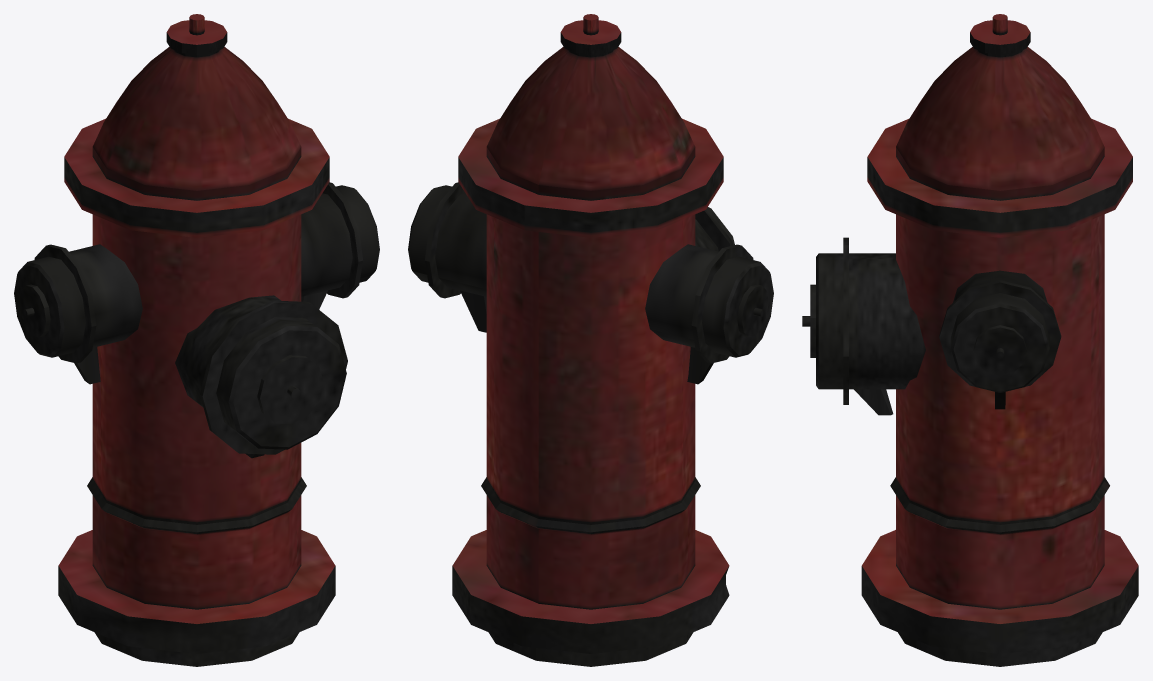
The model's file is firehydrantModel.fbx.
3 renders of one model, left to right at view 1: azimuth 30°, elevation 25°; view 2: azimuth 150°, elevation 25°; view 3: azimuth 270°, elevation 25°, orthographic.
Parts seen in each view (by area): view 1: polySurface4; view 2: polySurface4; view 3: polySurface4.
Boxes of the visible parts, x1=… form: polySurface4: x1=14, y1=14, x2=379, y2=666; polySurface4: x1=408, y1=14, x2=773, y2=666; polySurface4: x1=802, y1=14, x2=1138, y2=666.
Bounding box in the file's own units: 7.88 × 13.24 × 6.69.
Materials: 1 (1 with a texture image).
